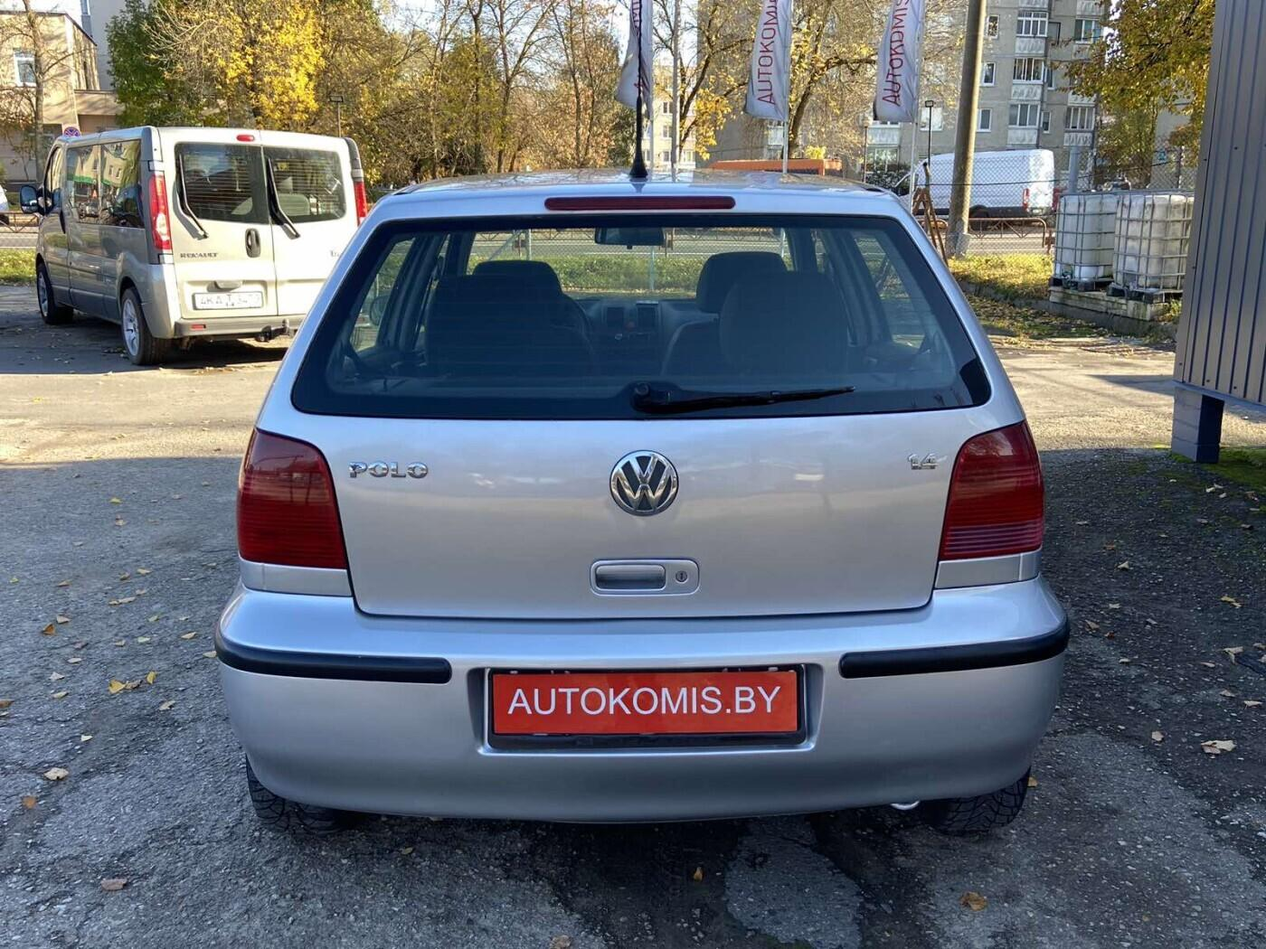Polo_2000-2002: (213, 161, 1073, 864)
